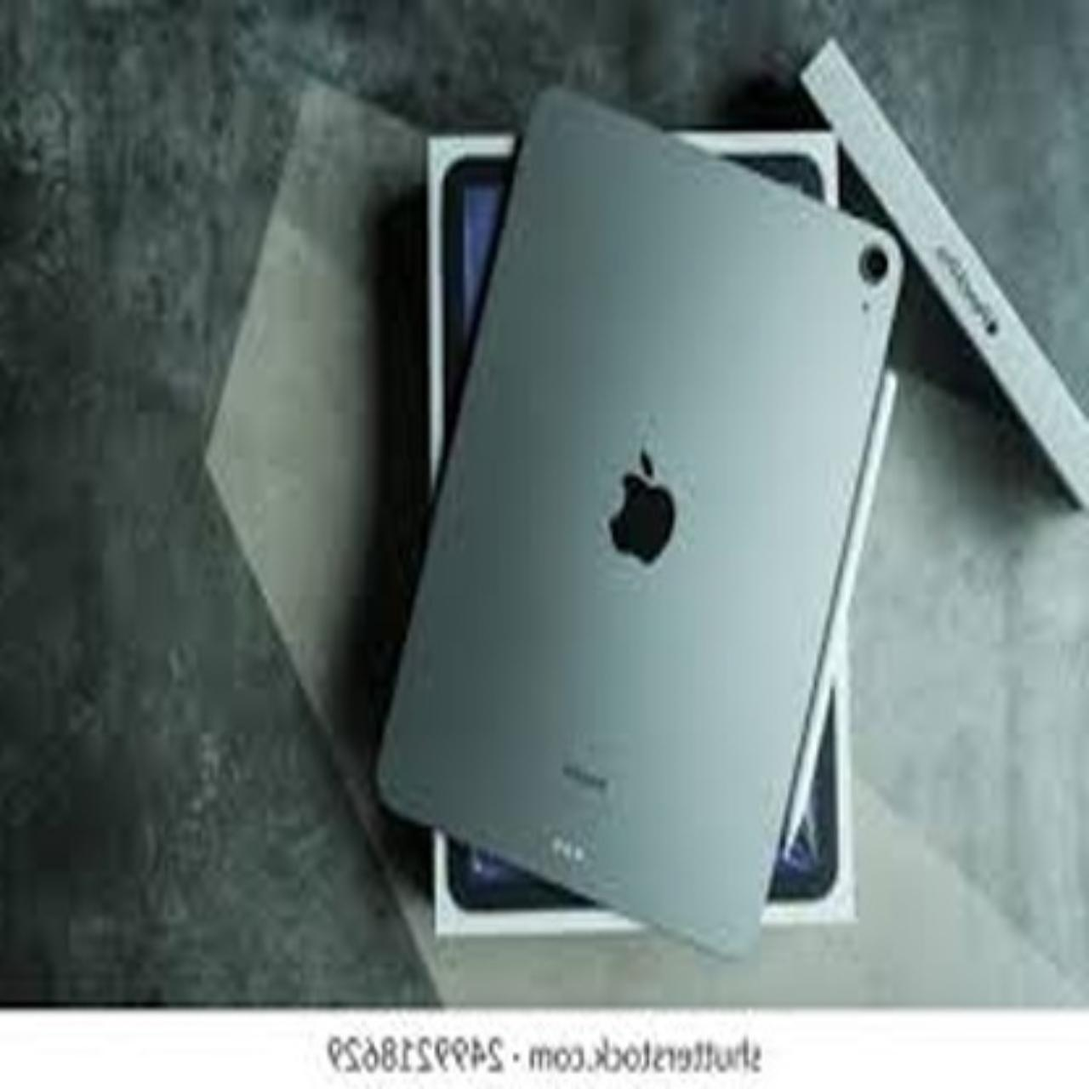Tablet_PC: (330, 79, 929, 971)
